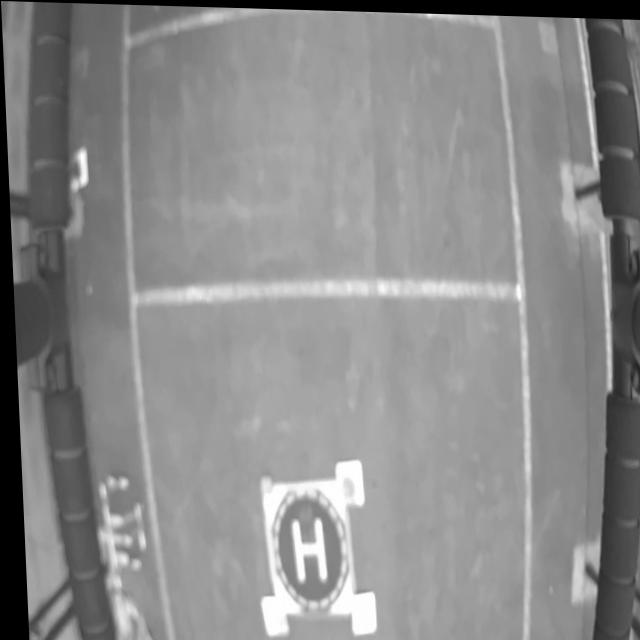Helipad: (285, 514, 322, 582)
